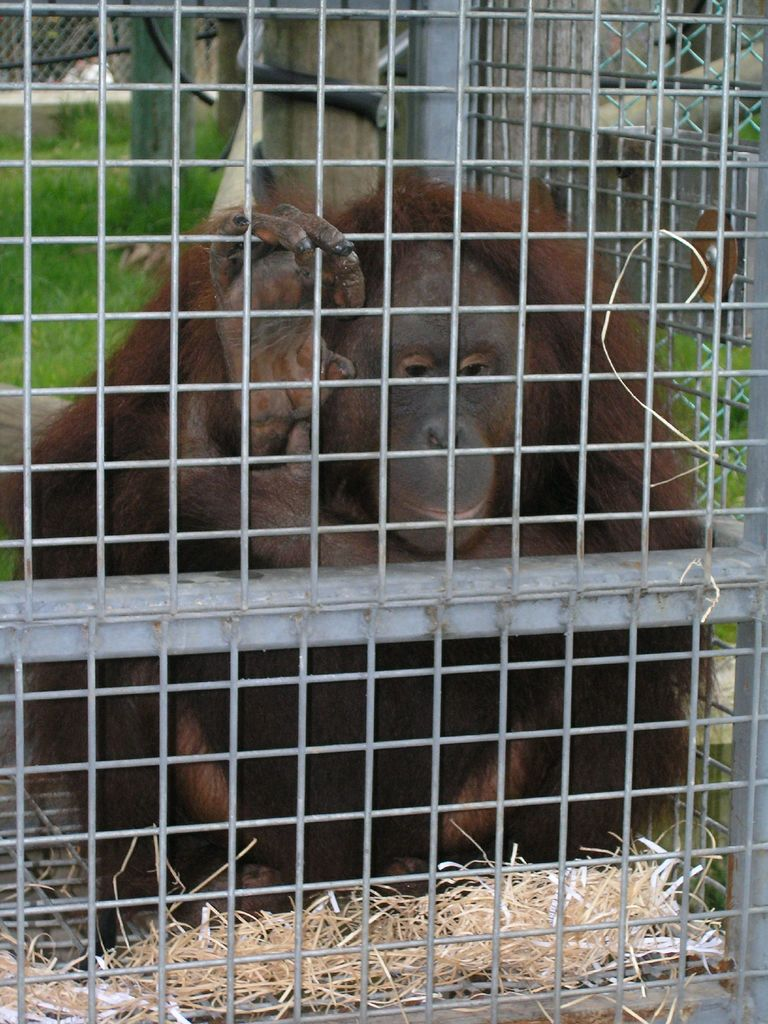Animal: (0, 163, 700, 962)
